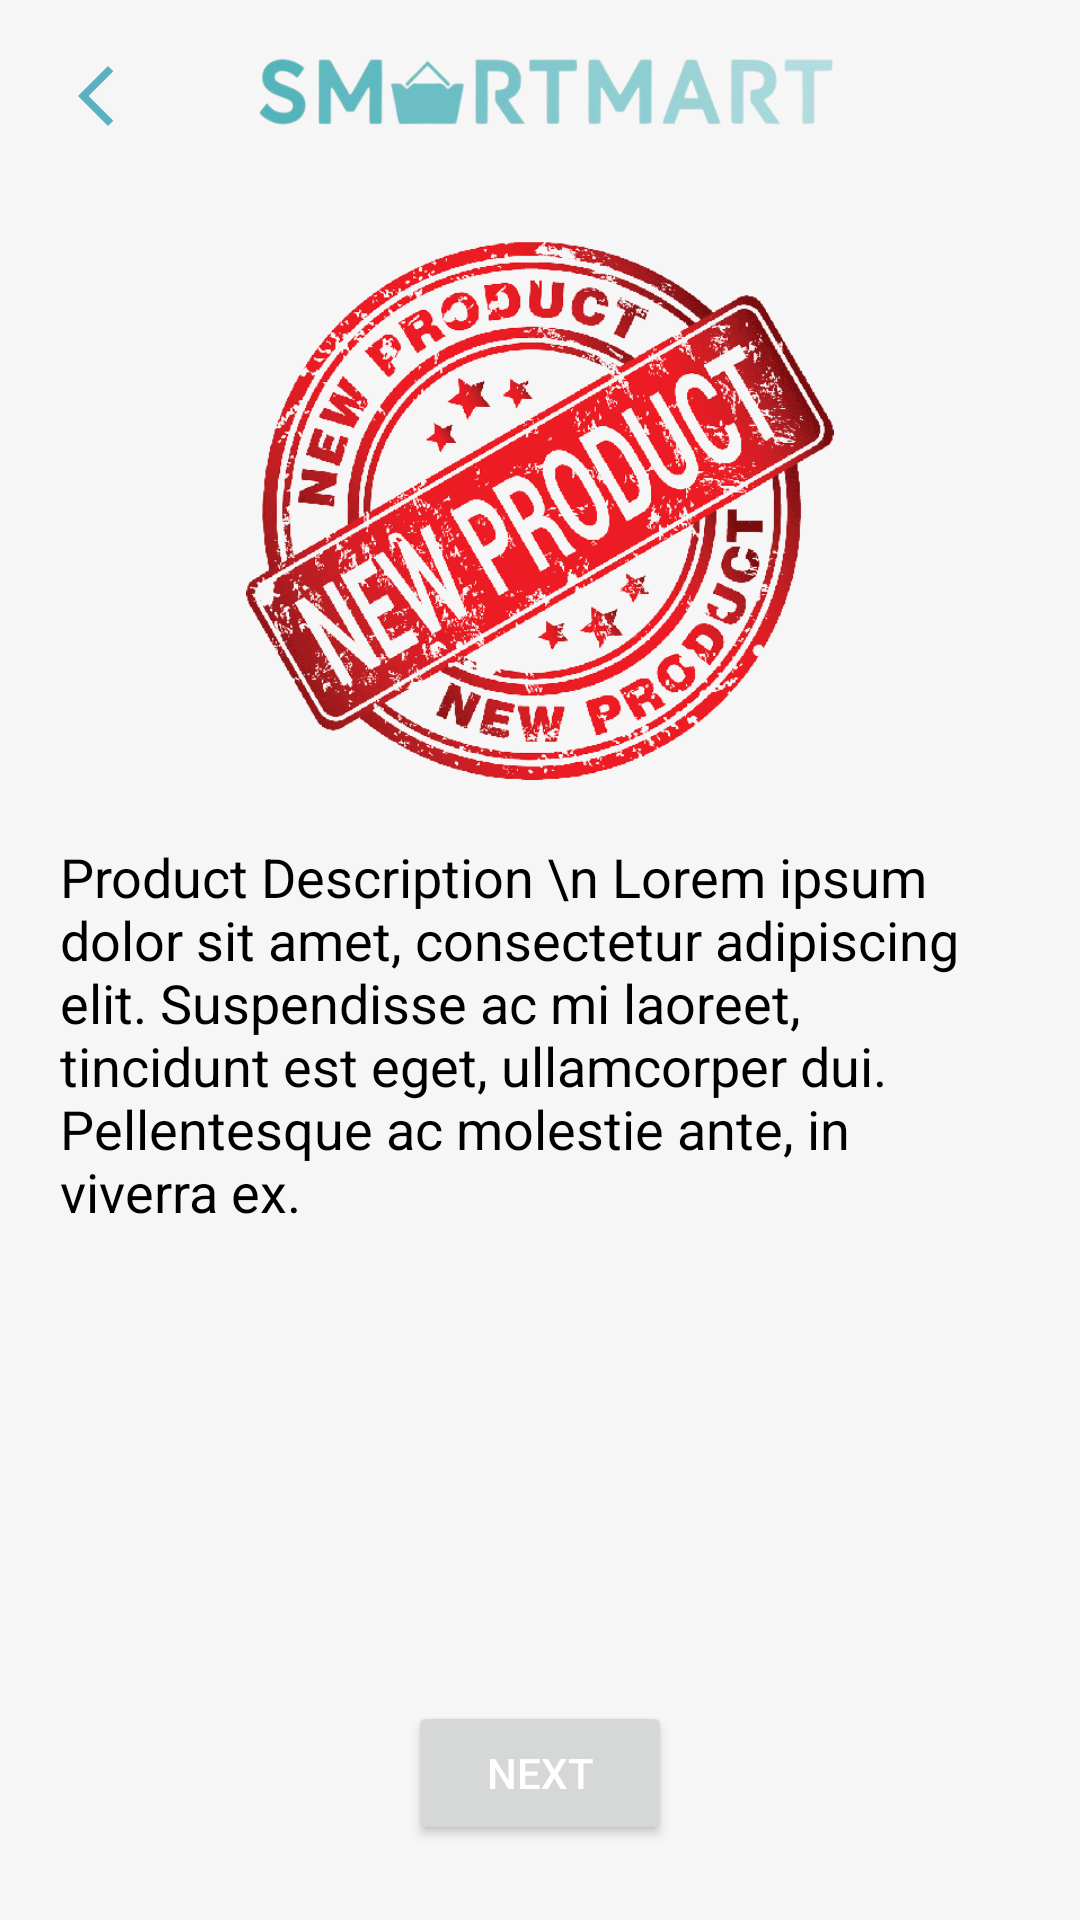

Where to tap for icons on this 1080px x 1920px app screen, as point (x, y):
back: point (95, 96)
